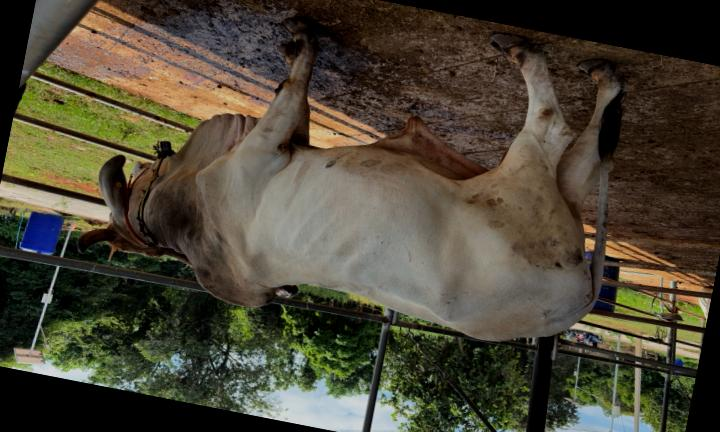Brahman: (77, 19, 625, 341)
